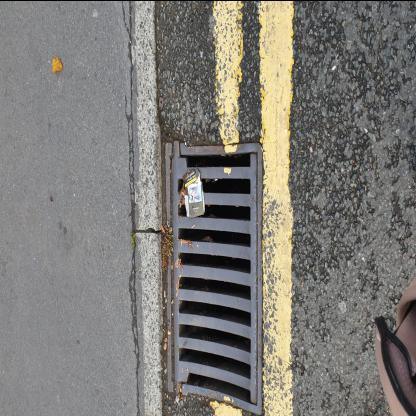karton: (184, 167, 206, 217)
